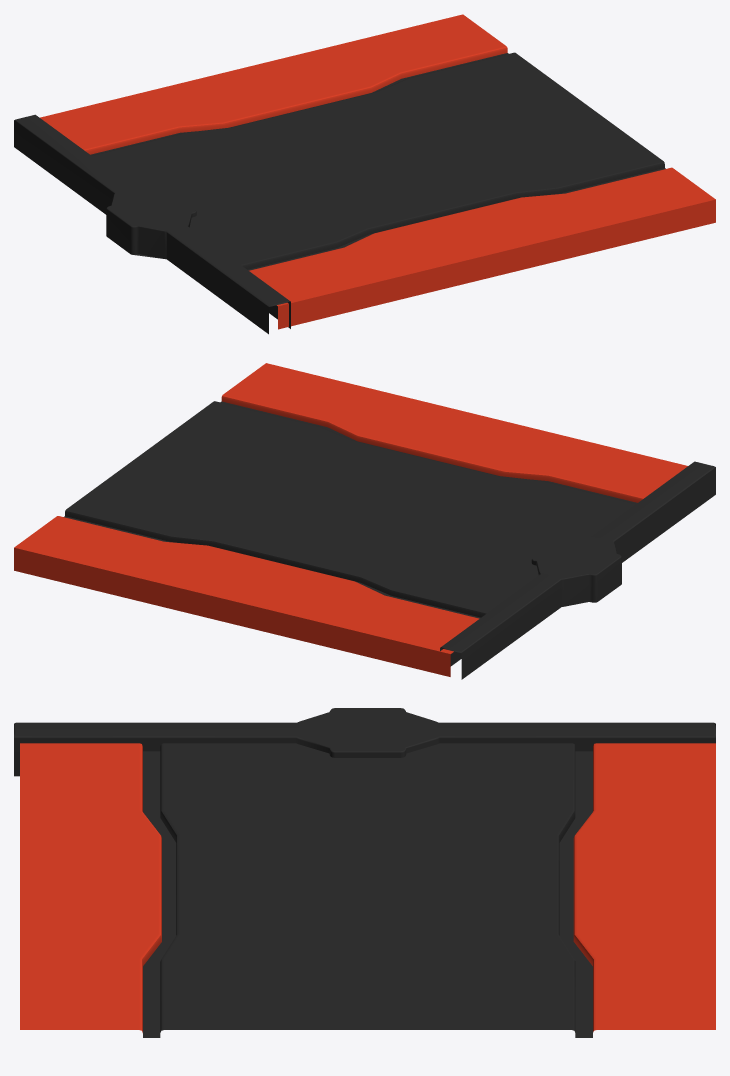
File: Floor_Tile_01_A.FBX
The picture shows the model from 3 angles, top to bottom: view 1: azimuth 30°, elevation 25°; view 2: azimuth 150°, elevation 25°; view 3: azimuth 270°, elevation 25°; orthographic projection. The views are drawn at different scales.
Parts seen in each view (by area): view 1: Floor_Tile_01_A; view 2: Floor_Tile_01_A; view 3: Floor_Tile_01_A.
Part boxes in pixels (bbox=[...]): Floor_Tile_01_A: bbox=[14, 14, 715, 334]; Floor_Tile_01_A: bbox=[14, 363, 715, 679]; Floor_Tile_01_A: bbox=[14, 708, 715, 1037].
Size of the model in its own units: 430 by 25 by 403.
